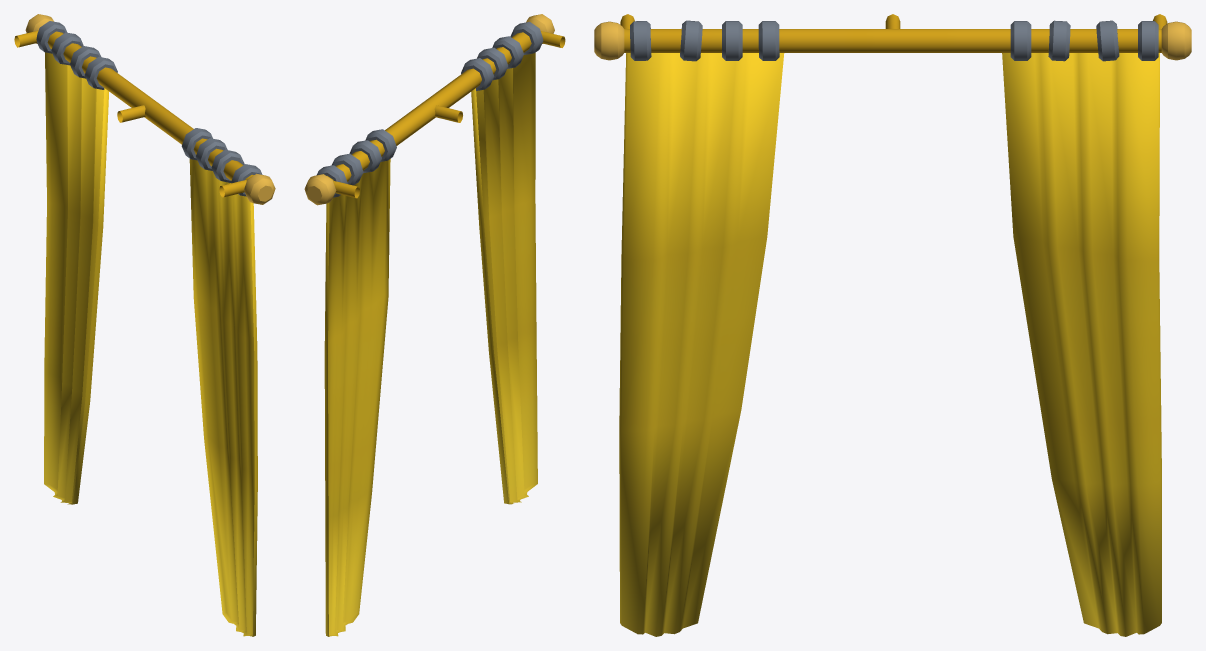
The model's file is Curtains_Long_1_A_I.glb.
3 views of the same model, side by side, from view 1: azimuth 30°, elevation 25°; view 2: azimuth 150°, elevation 25°; view 3: azimuth 270°, elevation 25° (orthographic). The views are drawn at different scales.
Visible parts, largest first — view 1: Curtains_Long_1_A_I; view 2: Curtains_Long_1_A_I; view 3: Curtains_Long_1_A_I.
Part boxes in pixels (x1,y1,x2,y2): Curtains_Long_1_A_I: [14, 14, 275, 636]; Curtains_Long_1_A_I: [304, 14, 565, 636]; Curtains_Long_1_A_I: [594, 14, 1191, 636].
Bounding box in the file's own units: 0.2268 × 2.28 × 2.02.
Materials: 2 (2 with a texture image).
